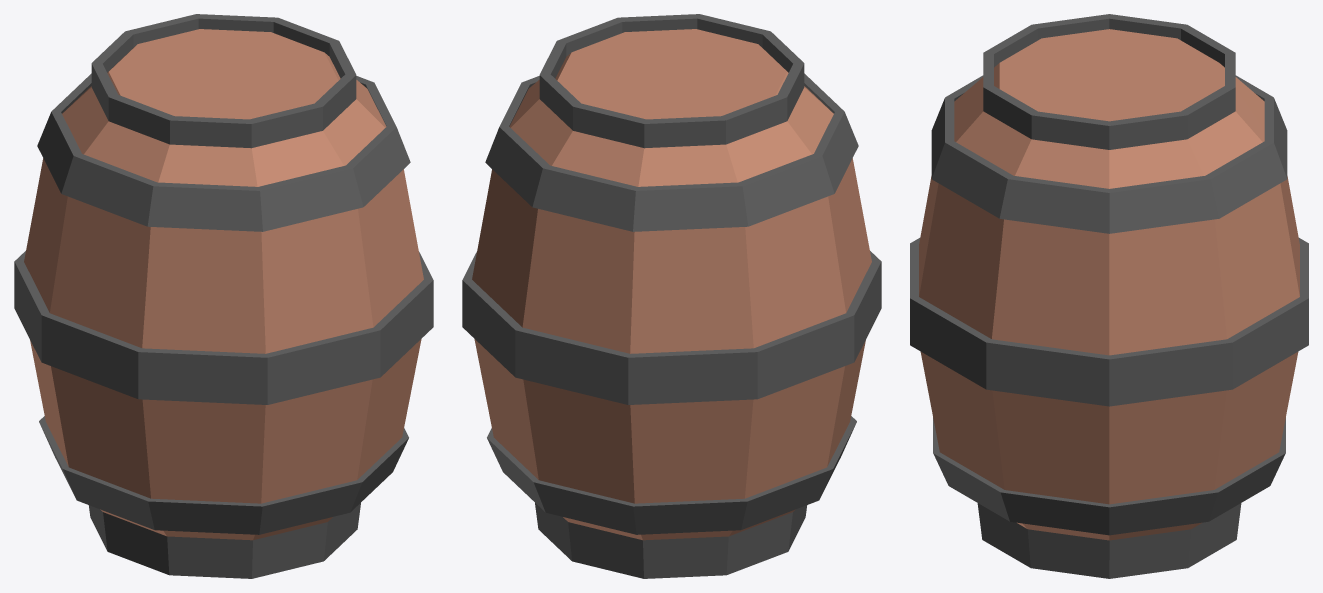
File: barrel_b001.glb
3 views of the same model, side by side, from view 1: azimuth 30°, elevation 25°; view 2: azimuth 150°, elevation 25°; view 3: azimuth 270°, elevation 25° (orthographic).
Visible parts, largest first — view 1: barrel_b001; view 2: barrel_b001; view 3: barrel_b001.
Part boxes in pixels (<box>): barrel_b001: <box>14,14,433,578</box>; barrel_b001: <box>462,14,881,578</box>; barrel_b001: <box>910,14,1308,578</box>.
Size of the model in its own units: 0.5917 by 0.7041 by 0.5627.
Materials: 1 (1 with a texture image).
